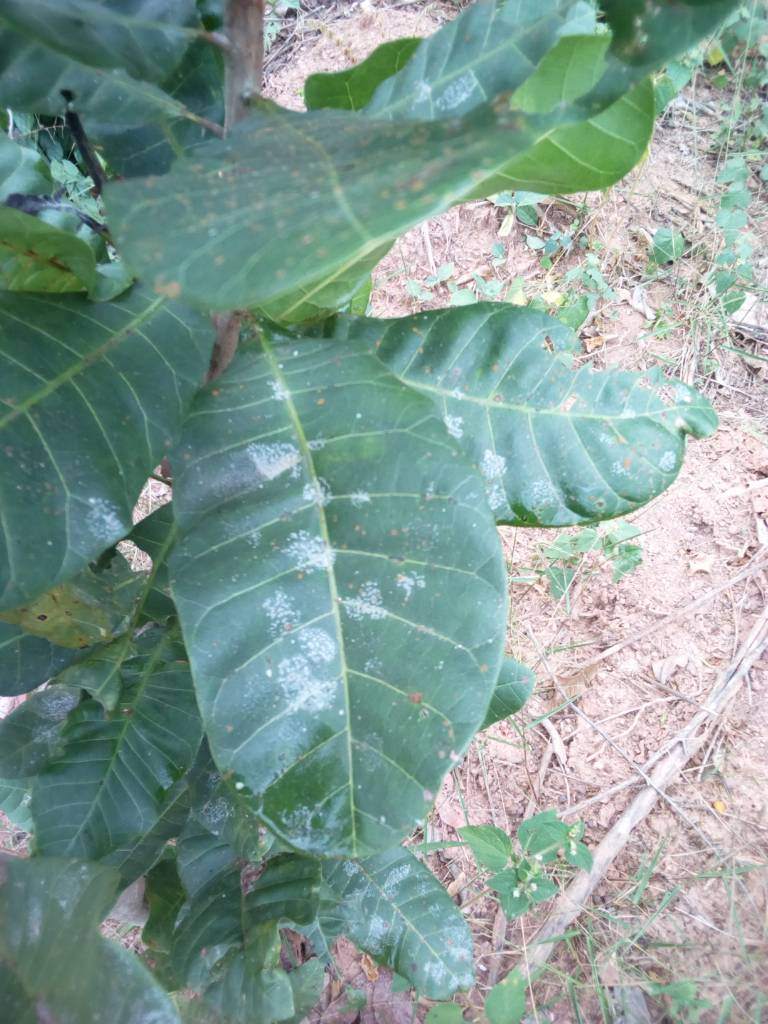Rouille: (93, 102, 590, 319)
